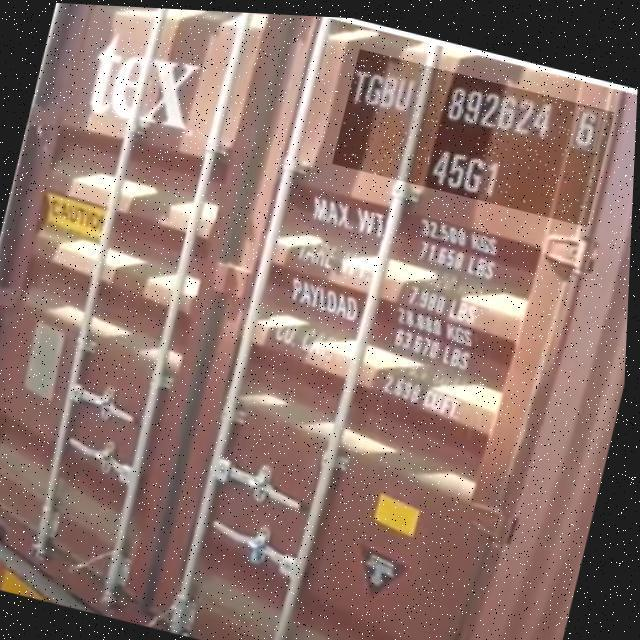container_number_h: (332, 44, 617, 222)
